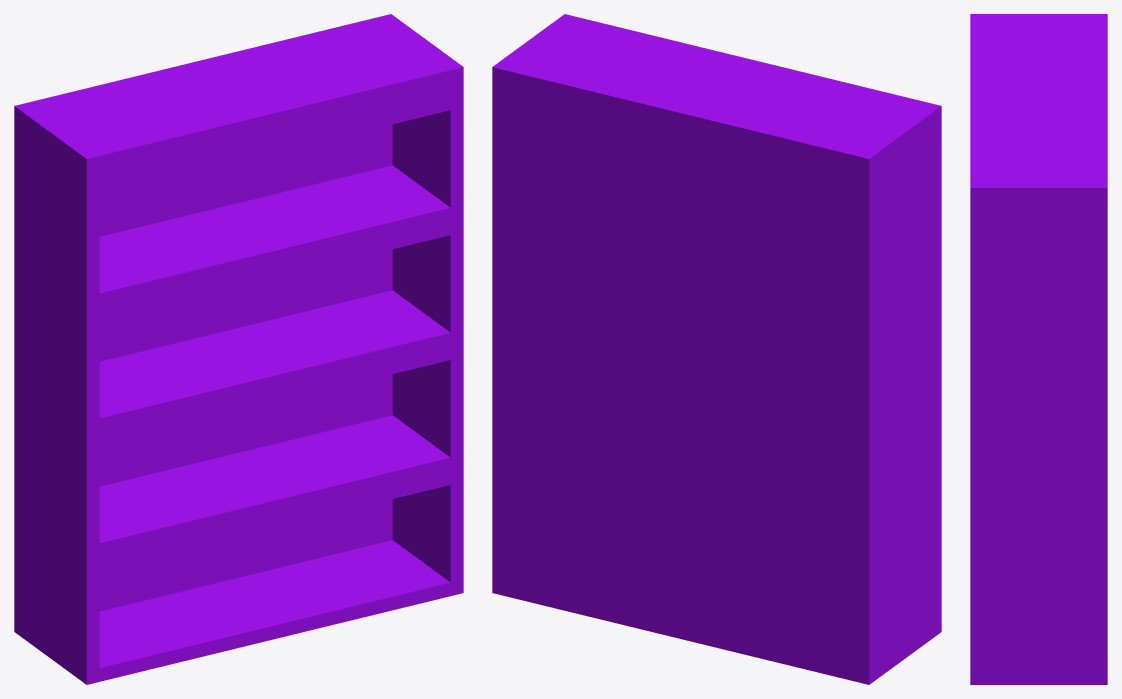
The model's file is BookShelf.fbx.
The picture shows the model from 3 angles, left to right: view 1: azimuth 30°, elevation 25°; view 2: azimuth 150°, elevation 25°; view 3: azimuth 270°, elevation 25°; orthographic projection. The views are drawn at different scales.
Visible parts, largest first — view 1: Bookshelf; view 2: Bookshelf; view 3: Bookshelf.
Part boxes in pixels (box(x1,y1,x2,y2)): Bookshelf: box(14, 14, 463, 684); Bookshelf: box(492, 14, 941, 684); Bookshelf: box(970, 14, 1107, 684).
Bounding box in the file's own units: 150 × 200 × 50.
